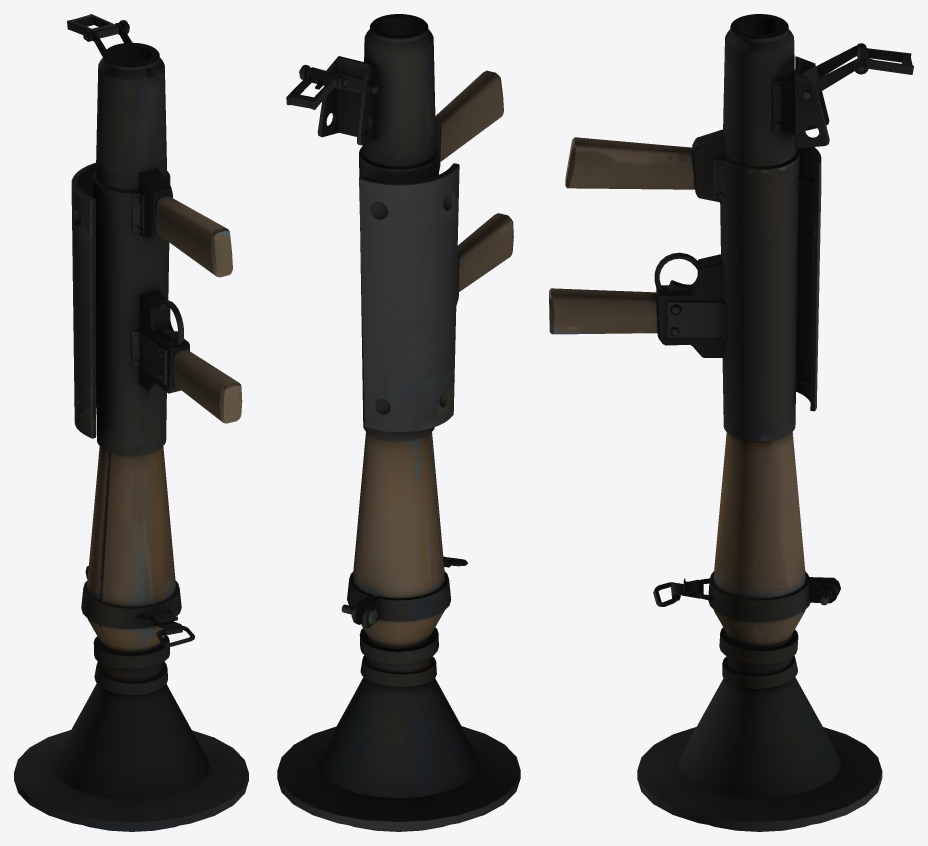
Rendered from c_rocketlauncher.glb.
3 views of the same model, side by side, from view 1: azimuth 30°, elevation 25°; view 2: azimuth 150°, elevation 25°; view 3: azimuth 270°, elevation 25° (orthographic). The views are drawn at different scales.
Parts seen in each view (by area): view 1: c_rocketlauncher; view 2: c_rocketlauncher; view 3: c_rocketlauncher.
Boxes of the visible parts, x1,y1,x2,y2 form: c_rocketlauncher: [14, 14, 248, 831]; c_rocketlauncher: [277, 14, 520, 831]; c_rocketlauncher: [549, 14, 913, 831].
Bounding box in the file's own units: 16.52 × 57.68 × 24.82.
1 material, 1 textured.
